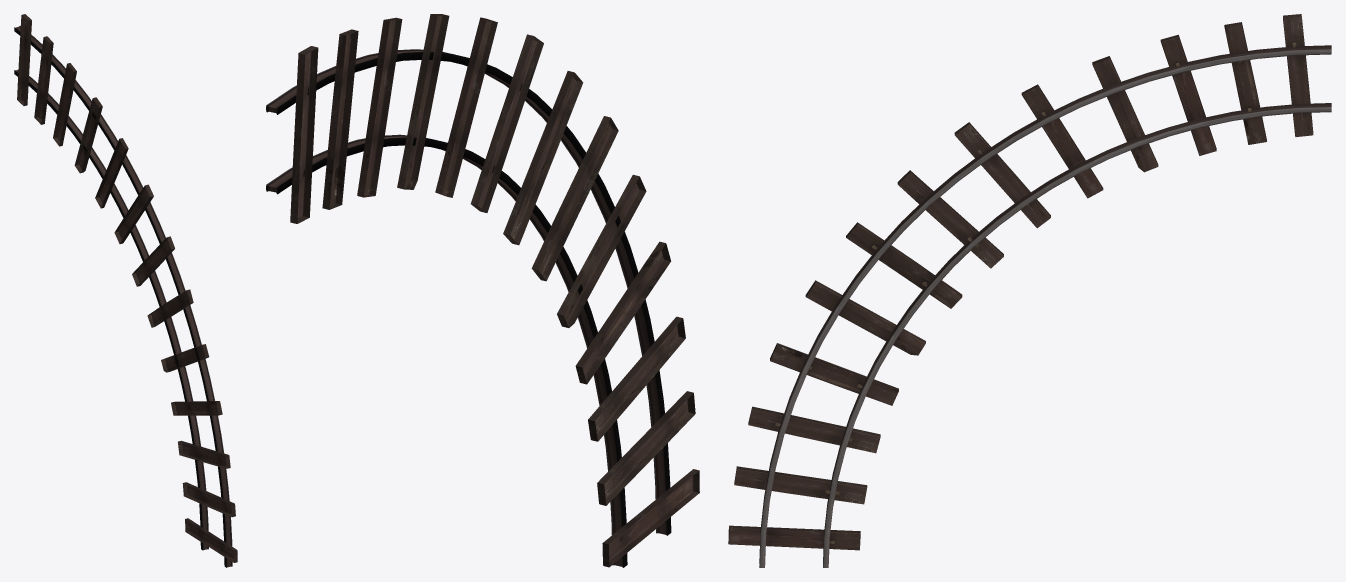
Rendered from props_mining_track_arc_90degree_256.glb.
3 views of the same model, side by side, from view 1: azimuth 30°, elevation 25°; view 2: azimuth 150°, elevation 25°; view 3: azimuth 270°, elevation 25° (orthographic). The views are drawn at different scales.
Visible parts, largest first — view 1: models/props_mining/track_arc_90degree_256; view 2: models/props_mining/track_arc_90degree_256; view 3: models/props_mining/track_arc_90degree_256.
Boxes of the visible parts, <box> form: models/props_mining/track_arc_90degree_256: <box>14,14,237,567</box>; models/props_mining/track_arc_90degree_256: <box>266,14,699,567</box>; models/props_mining/track_arc_90degree_256: <box>728,14,1331,567</box>.
Bounding box in the file's own units: 6.73 × 256 × 256.
Materials: 1 (1 with a texture image).
